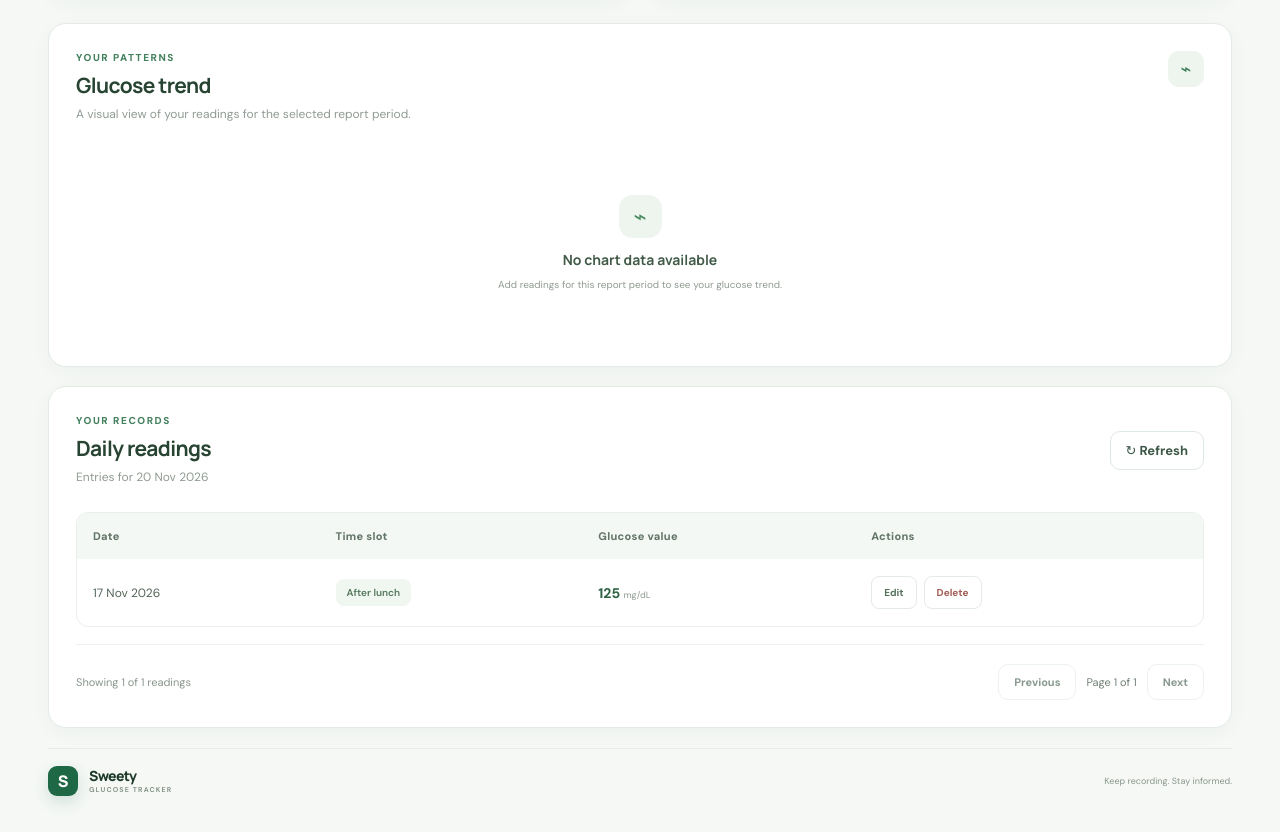
Sweety reading form › updates an existing glucose reading successfully
(page scrolled)
Click the button "Edit".
click(894, 592)  # box x1=871 y1=576 x2=917 y2=609
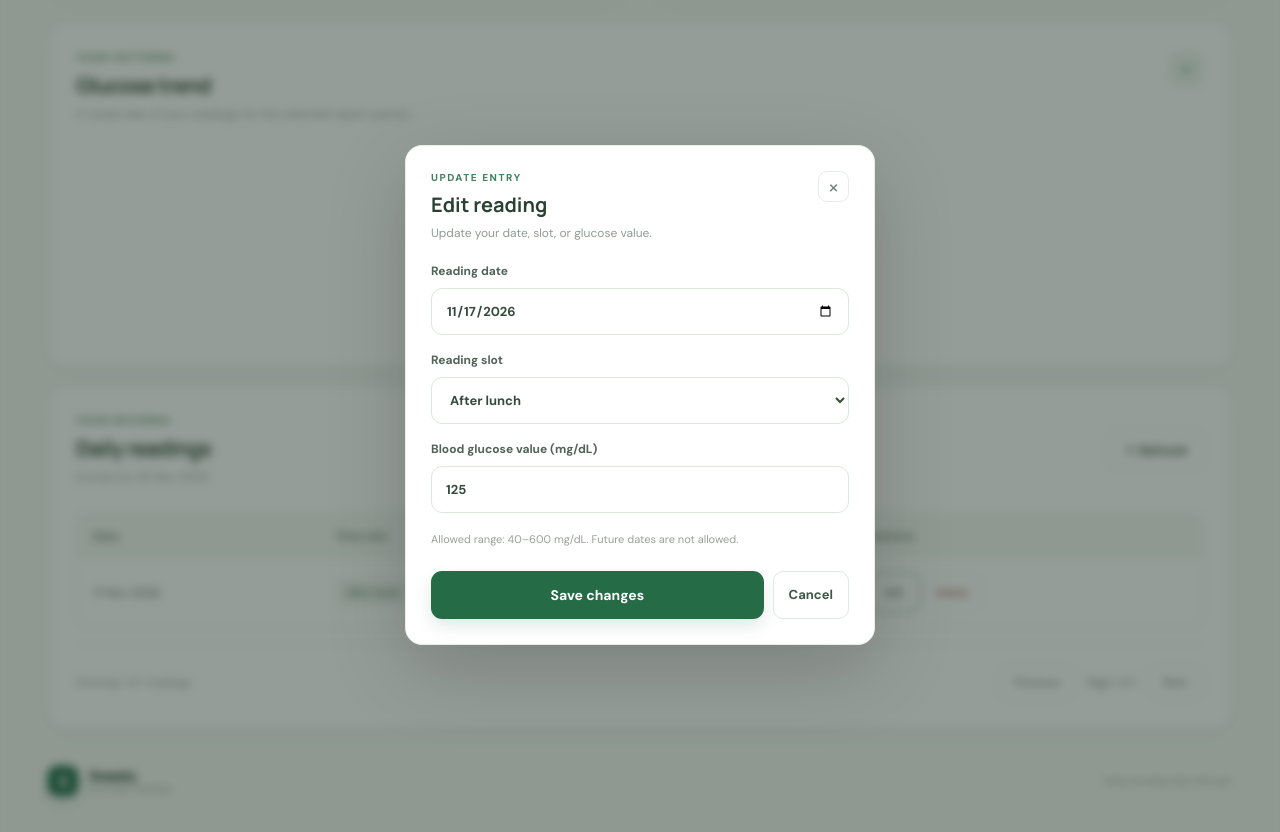
Replace the text in the number field labelled "Blood glucose value (mg/dL)" with "135" at x=640, y=490, box x1=431 y1=466 x2=849 y2=513
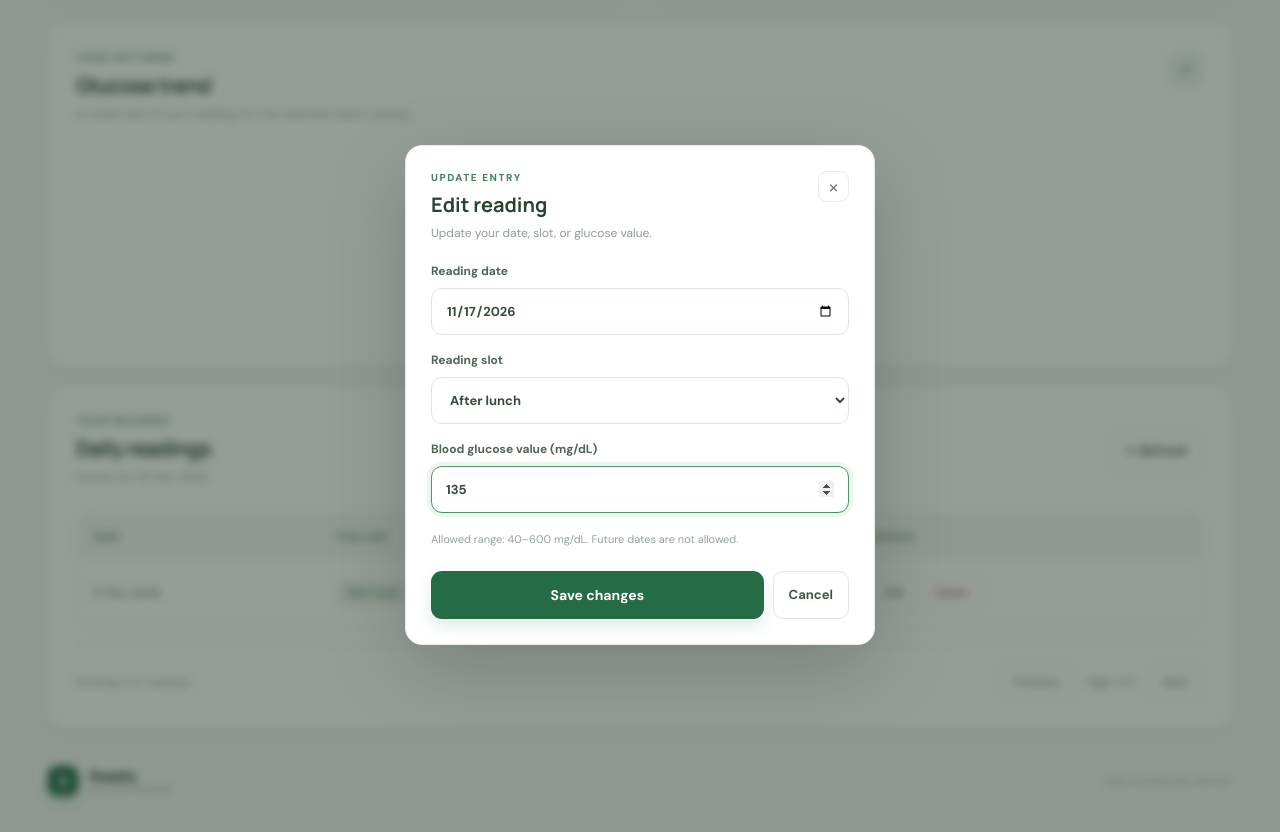
Click the button "Save changes".
click(597, 595)  # box x1=431 y1=571 x2=764 y2=619
(page scrolled)
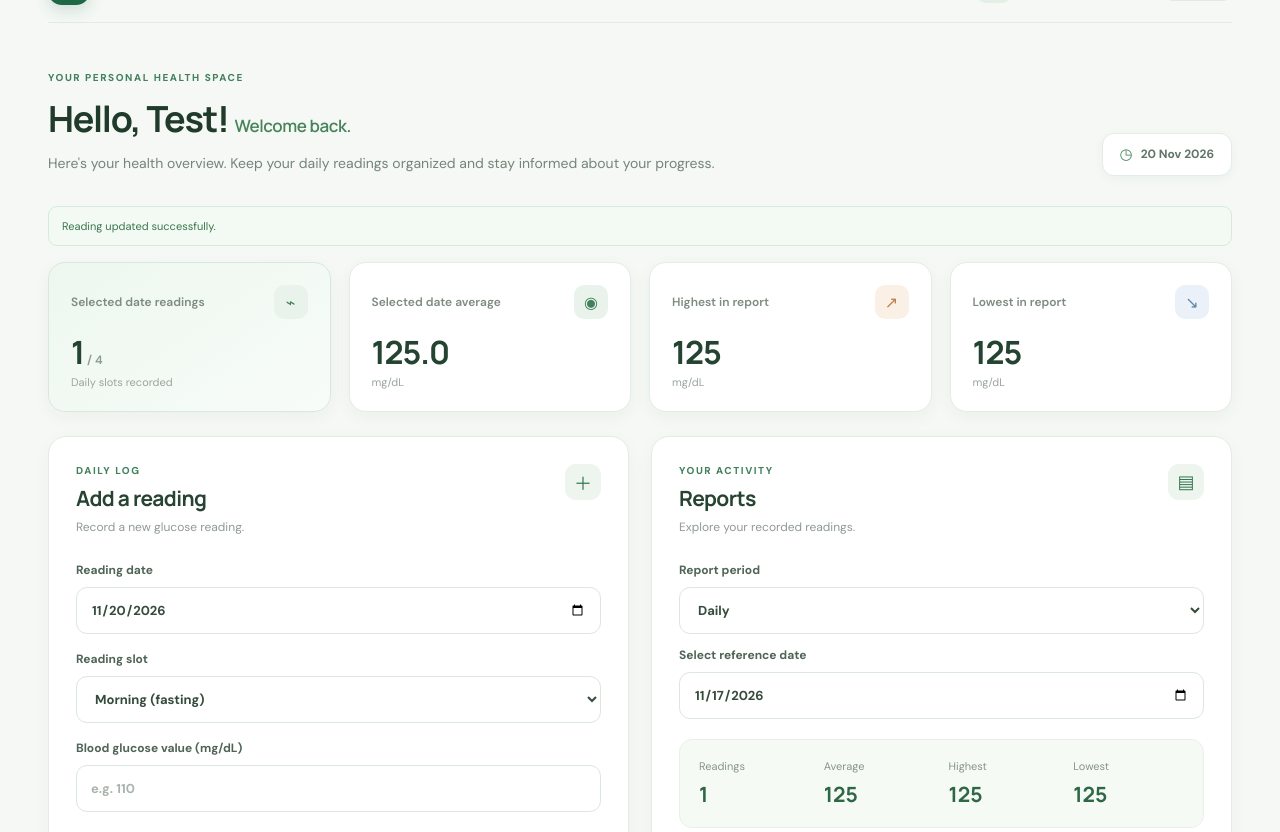
Expected: the message reads "Reading updated successfully.", x1=62 y1=219 x2=216 y2=233
